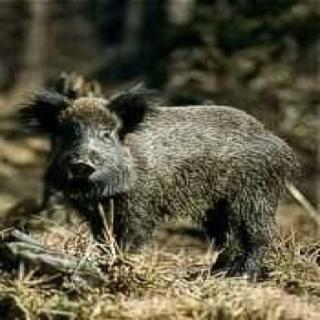Pig: (37, 60, 320, 266)
